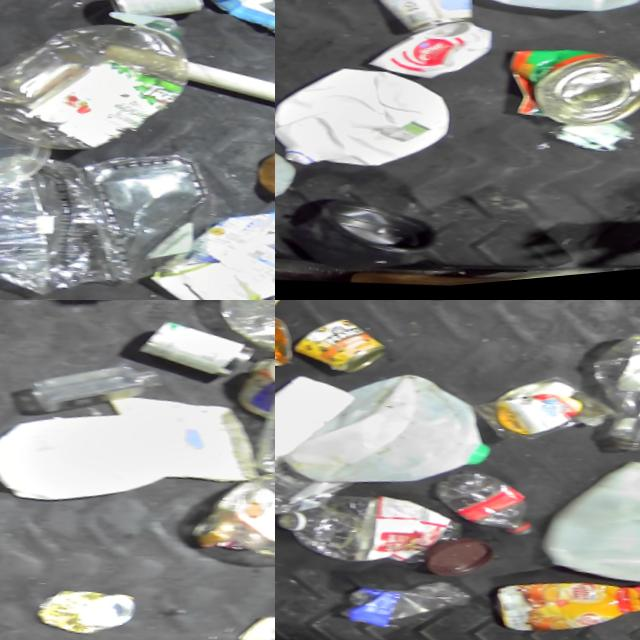can: (510, 42, 640, 146), (291, 306, 394, 385), (36, 582, 148, 640), (102, 0, 209, 34)
milk_jug: (283, 360, 503, 509), (0, 400, 204, 524), (275, 56, 456, 187), (540, 457, 640, 606), (449, 0, 640, 36)
non_white_jug: (487, 570, 640, 640)
plastic_bottle: (0, 1, 188, 174), (275, 482, 472, 583), (0, 149, 108, 300), (423, 466, 541, 556), (213, 300, 275, 381)
